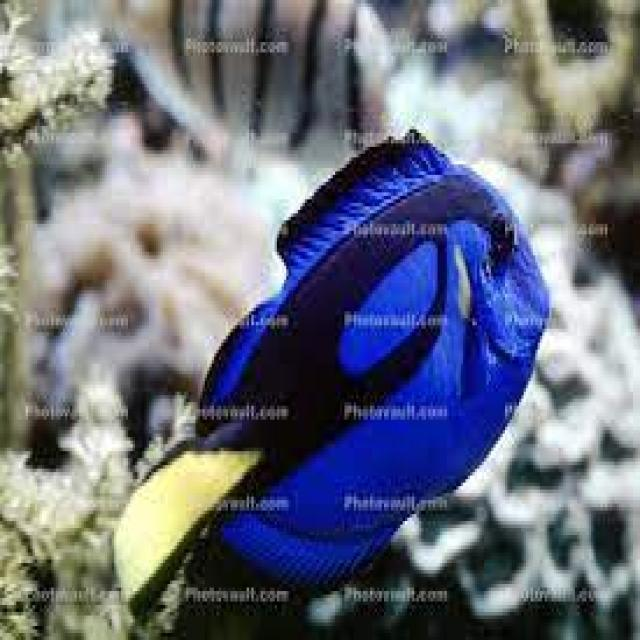BlueTang: (108, 103, 562, 626)
